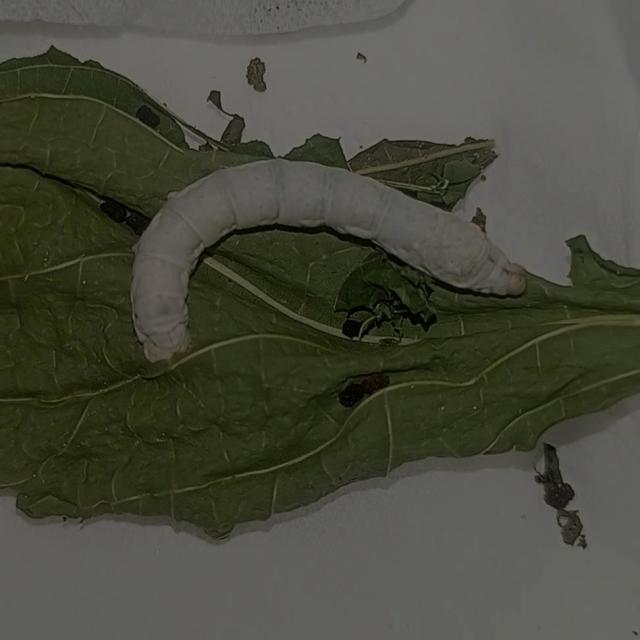Healthy: (98, 128, 569, 376)
